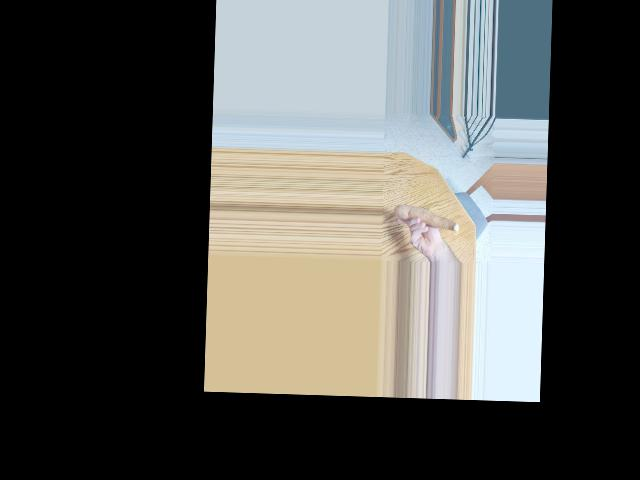sweet_potato: (396, 200, 461, 233)
